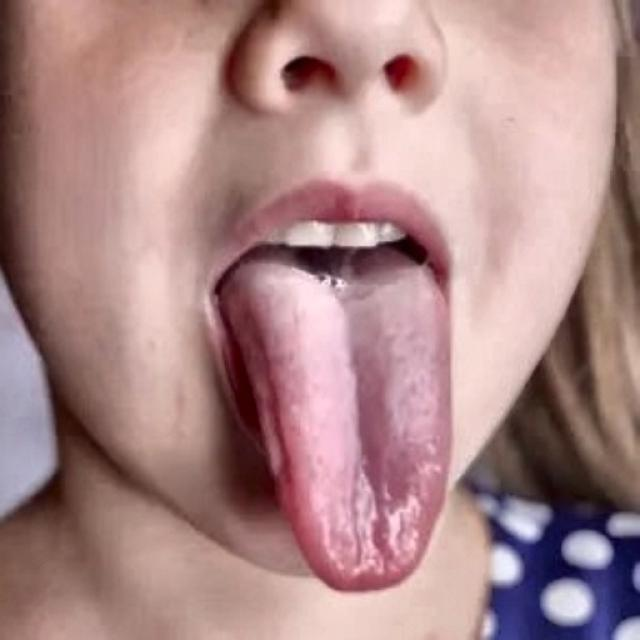processing_area: (222, 255, 449, 584)
